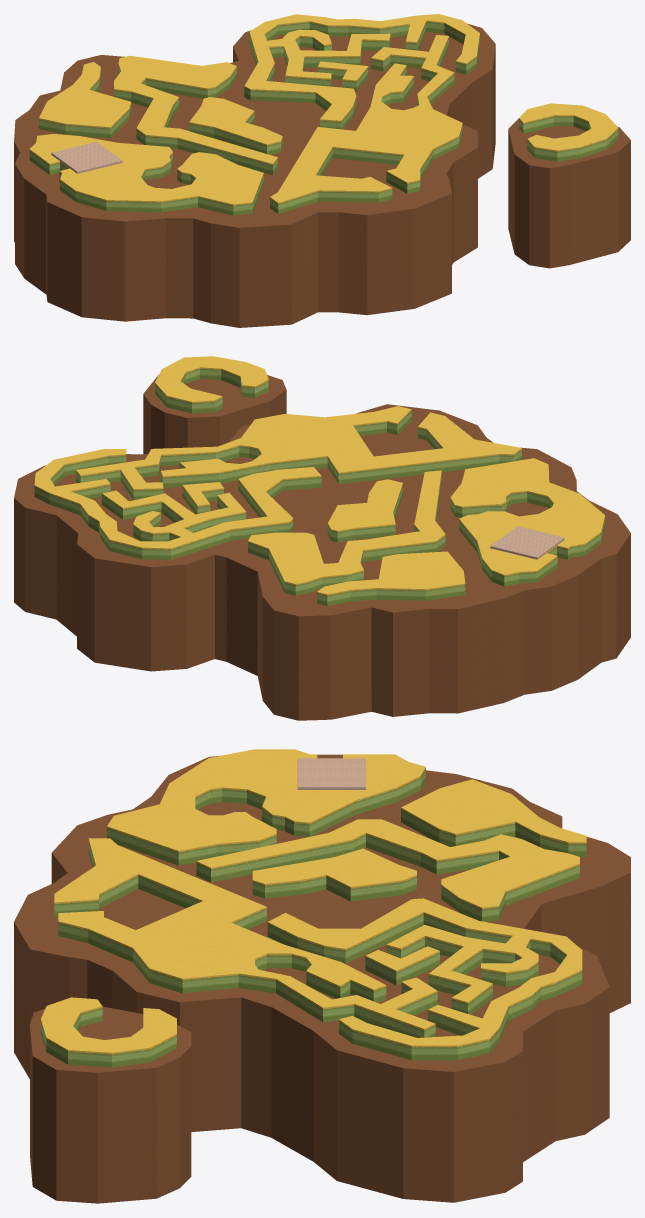
The model's file is maize domain 2.gltf.
The picture shows the model from 3 angles, top to bottom: view 1: azimuth 30°, elevation 25°; view 2: azimuth 150°, elevation 25°; view 3: azimuth 270°, elevation 25°; orthographic projection. The views are drawn at different scales.
Parts seen in each view (by area): view 1: ground, corn top, corn side, platform; view 2: ground, corn top, corn side, platform; view 3: ground, corn top, corn side, platform.
Boxes of the visible parts, x1,y1,x2,y2 form: ground: (14,23,630,327); corn top: (30,14,618,204); corn side: (29,20,618,215); platform: (51,141,122,173); ground: (14,375,630,720); corn top: (34,356,604,594); corn side: (34,367,605,605); platform: (490,526,564,559); ground: (14,754,630,1203); corn top: (41,749,586,1052); corn side: (41,767,586,1067); platform: (297,758,365,789).
Size of the model in its own units: 144 by 30.95 by 117.
